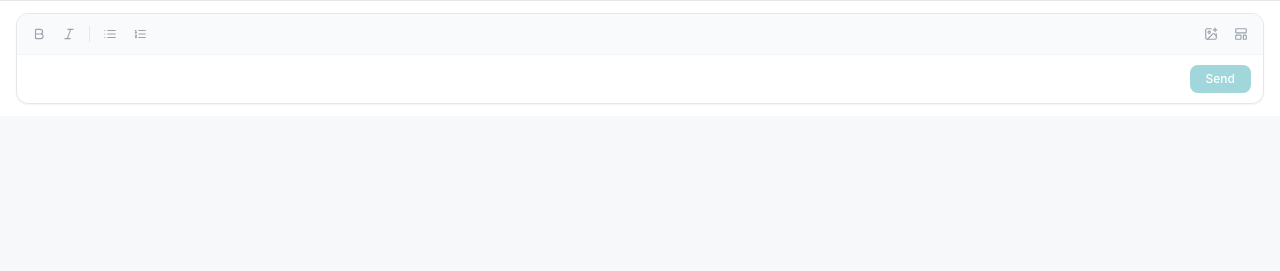
Test: ConversationComposer — quick reply template insertion › inserting a plain-text template writes into the editor but does not send the message
The width and height of the screenshot is (1280, 271).
Click the button titled "Insert quick reply template": {"x": 1241, "y": 34} [1227,20,1255,48]
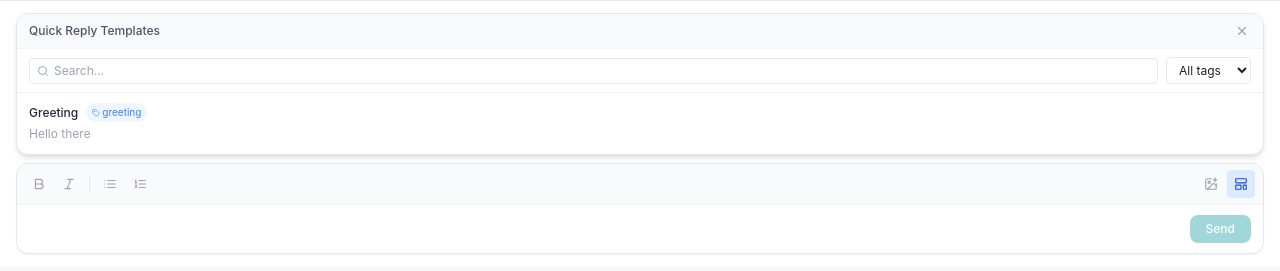
Expected: the text "Greeting" is shown, [29,104,78,120]
Click the button "Greeting greeting Hello there": {"x": 54, "y": 112} [29,103,1194,144]
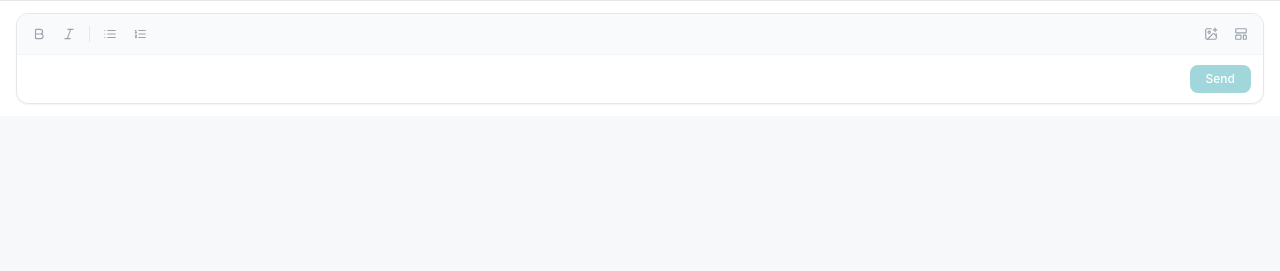
Expected: the button "Greeting" is gone
